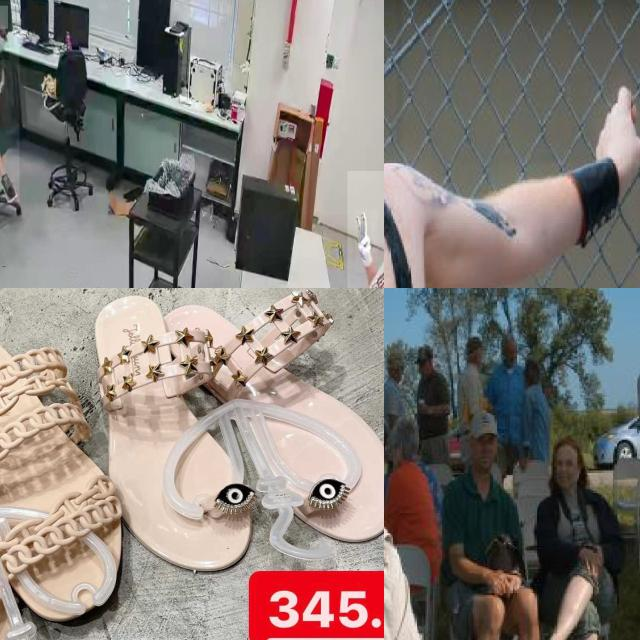Sandals: (85, 288, 384, 578), (0, 321, 144, 640)
face_mask: (0, 30, 9, 60)
face_nomask: (552, 457, 578, 488), (475, 433, 495, 466)
hand_glove: (355, 210, 377, 272)
hand_noglove: (585, 87, 640, 181), (489, 567, 521, 599), (578, 544, 606, 577)
head_nohelmet: (471, 406, 498, 432), (550, 438, 580, 458), (0, 5, 8, 29)
person: (440, 410, 549, 640), (384, 0, 469, 288), (530, 439, 633, 640), (0, 0, 20, 210), (630, 339, 640, 473)
shoes: (0, 168, 19, 207)
